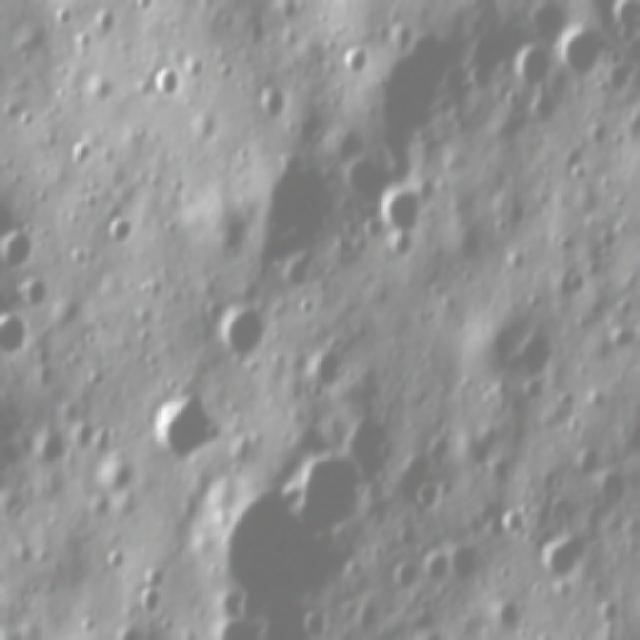crater: (217, 493, 357, 609), (366, 24, 469, 162), (243, 157, 354, 274), (294, 451, 369, 531), (152, 392, 222, 466), (208, 292, 278, 366), (367, 188, 436, 255), (534, 528, 604, 586), (145, 45, 193, 107), (393, 458, 442, 516), (0, 216, 43, 272), (506, 47, 552, 98), (554, 26, 600, 76), (381, 555, 425, 603), (0, 304, 38, 358), (478, 600, 522, 638), (417, 542, 457, 582), (128, 586, 169, 623)
